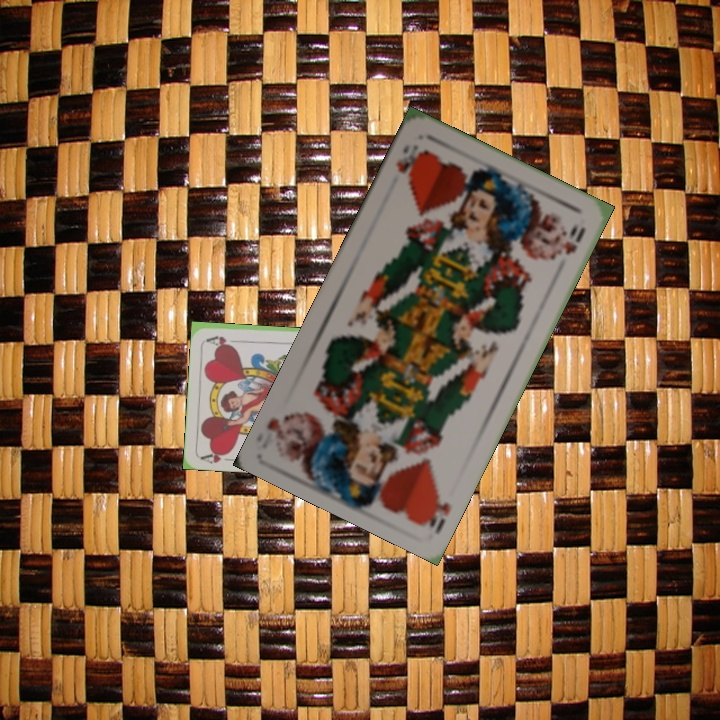HA: (198, 446, 238, 466)
HO: (392, 140, 427, 181), (425, 486, 453, 536)
